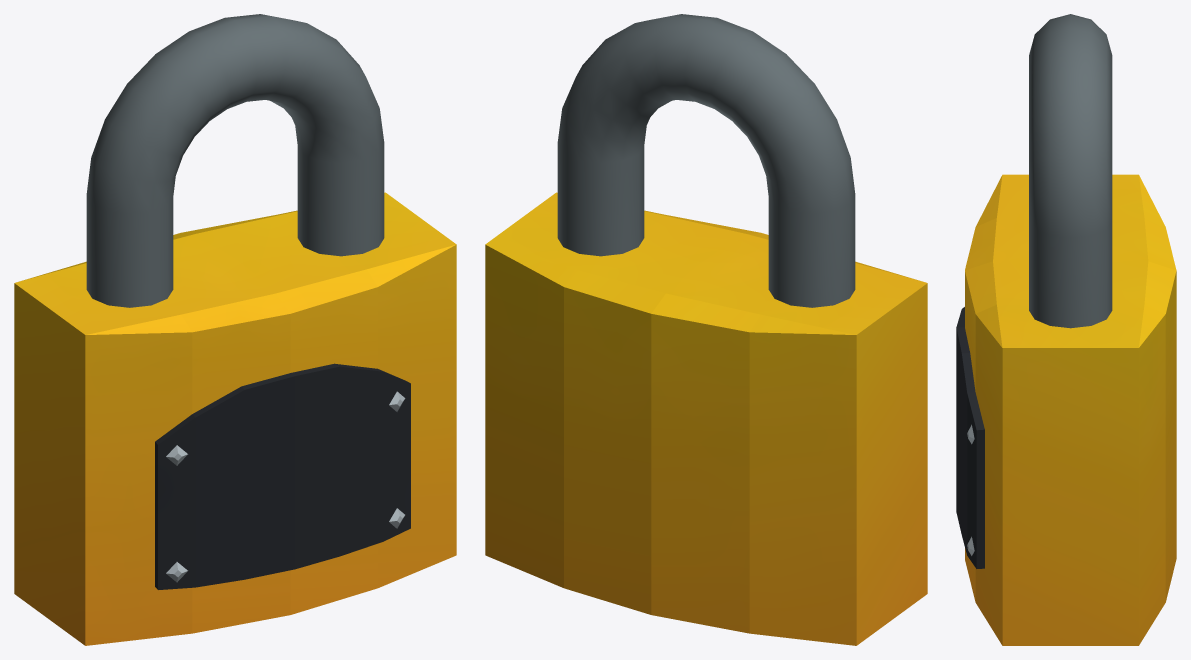
The model's file is Lock.fbx.
The picture shows the model from 3 angles, left to right: view 1: azimuth 30°, elevation 25°; view 2: azimuth 150°, elevation 25°; view 3: azimuth 270°, elevation 25°; orthographic projection. The views are drawn at different scales.
Parts seen in each view (by area): view 1: Lock; view 2: Lock; view 3: Lock.
Part boxes in pixels (box(x1,y1,x2,y2)): Lock: box(14, 14, 456, 645); Lock: box(485, 14, 927, 645); Lock: box(956, 14, 1176, 645).
Bounding box in the file's own units: 72.81 × 104 × 39.01.
